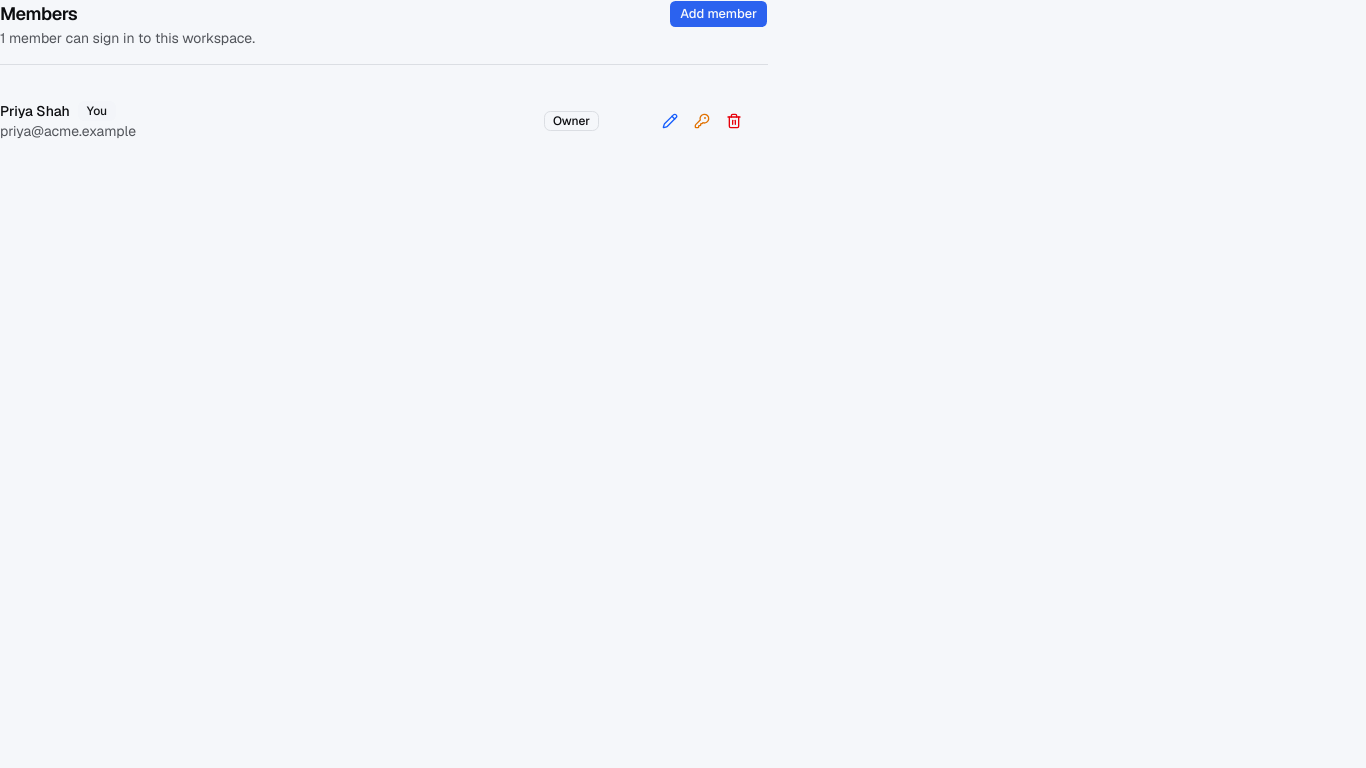
Add member › asks for a person before adding from the directory
Click the button "Add member" at [719, 14], box [669,0,768,28]
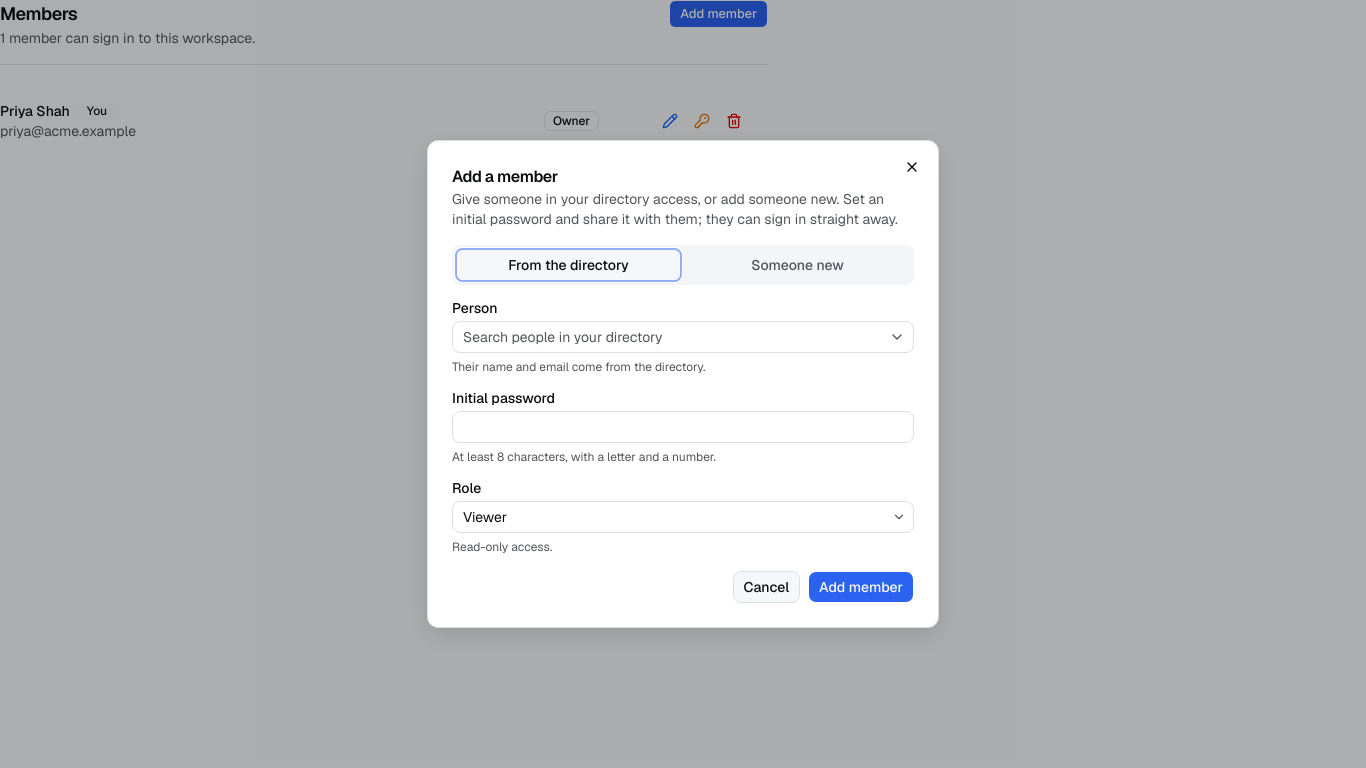
Type "password1" into the password field labelled "Initial password" at [683, 427], box [452,411,914,443]
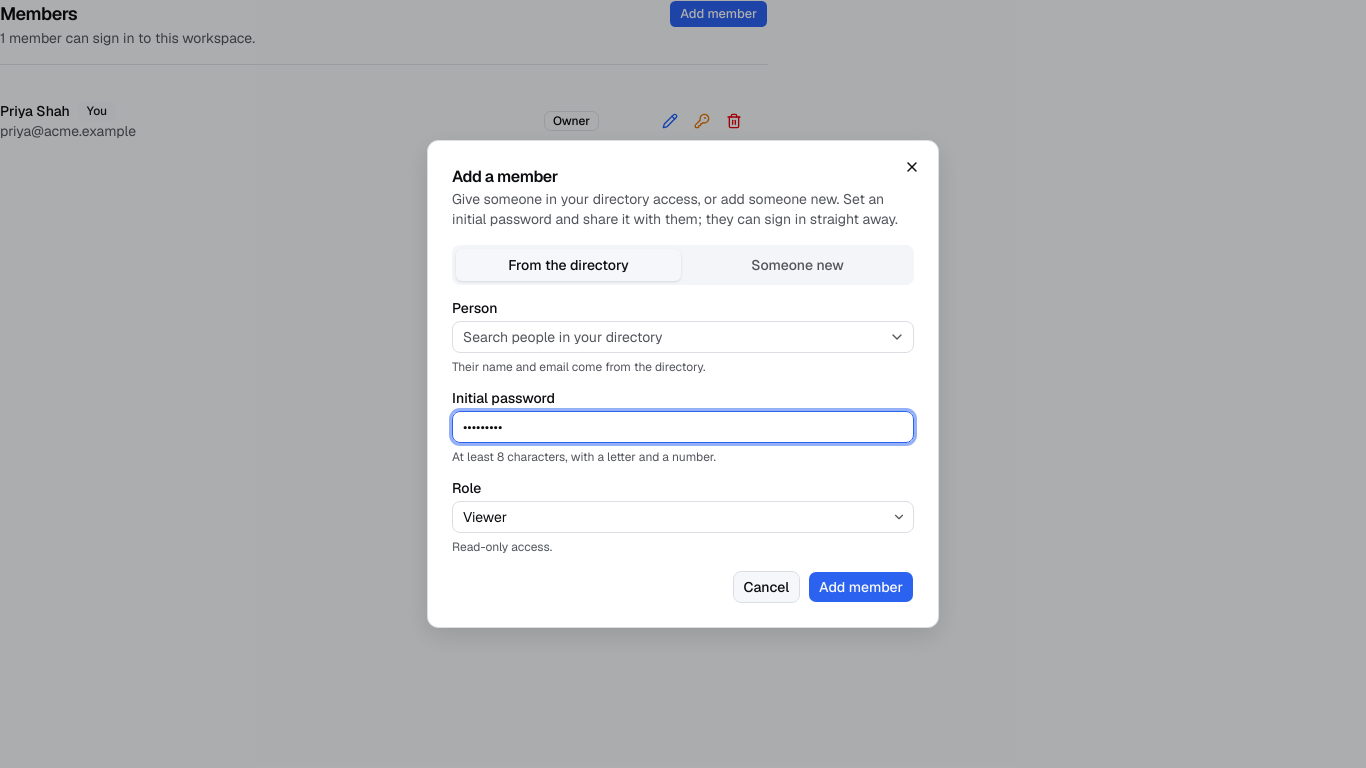
Click the button "Add member" at [861, 587], box [808,571,914,603]
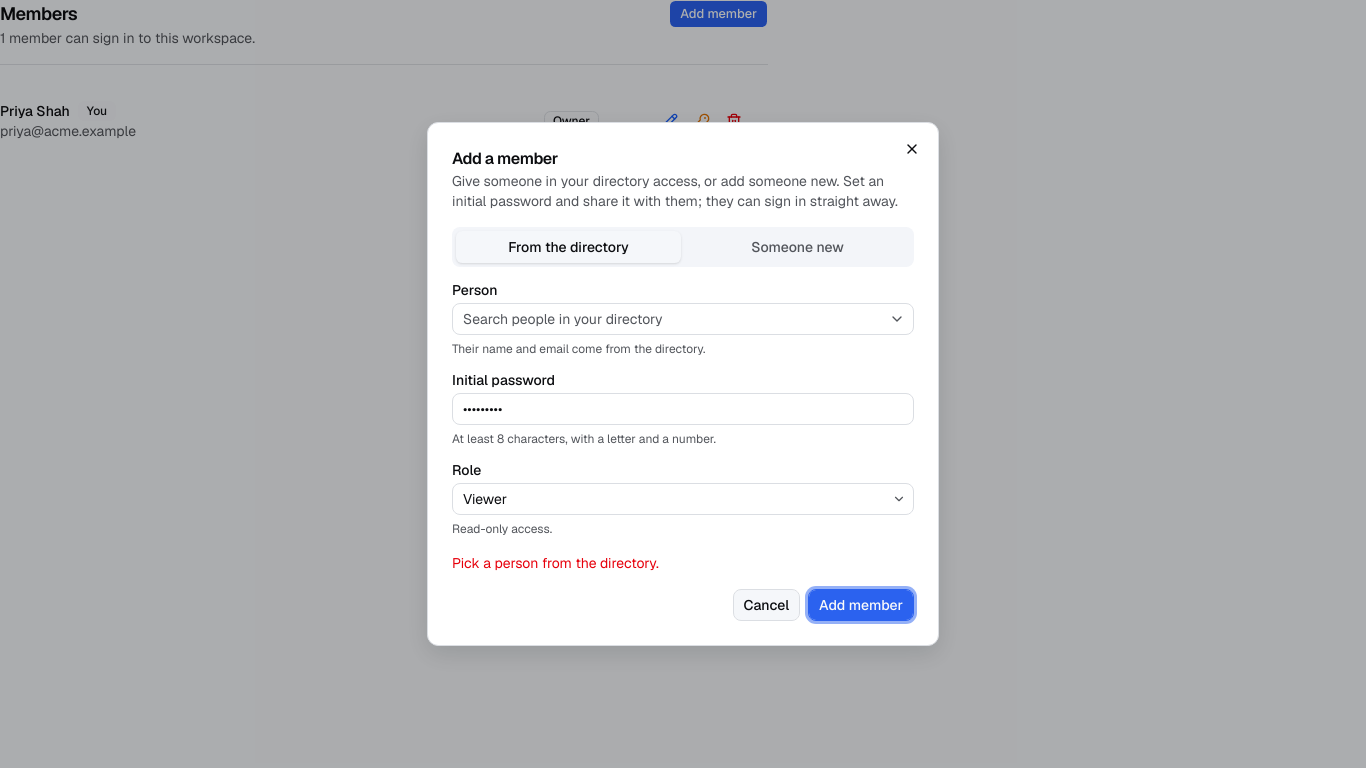
Expected: the text "Pick a person from the directory." is shown, [452,554,659,572]
